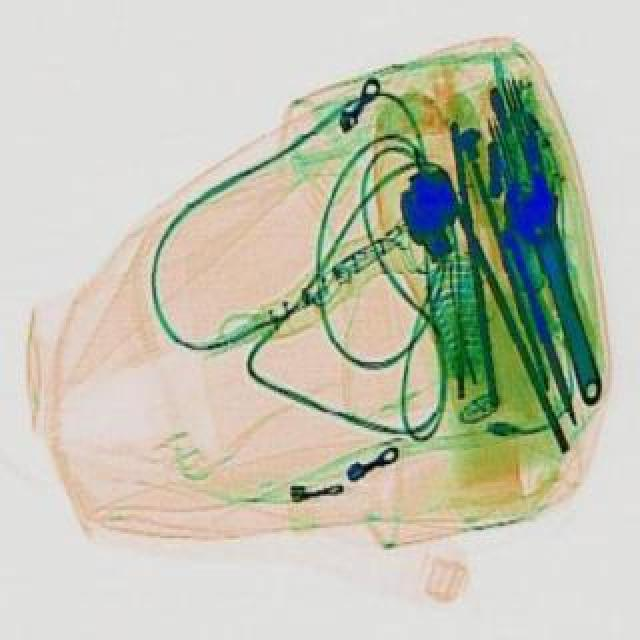scissors: (498, 168, 618, 408)
